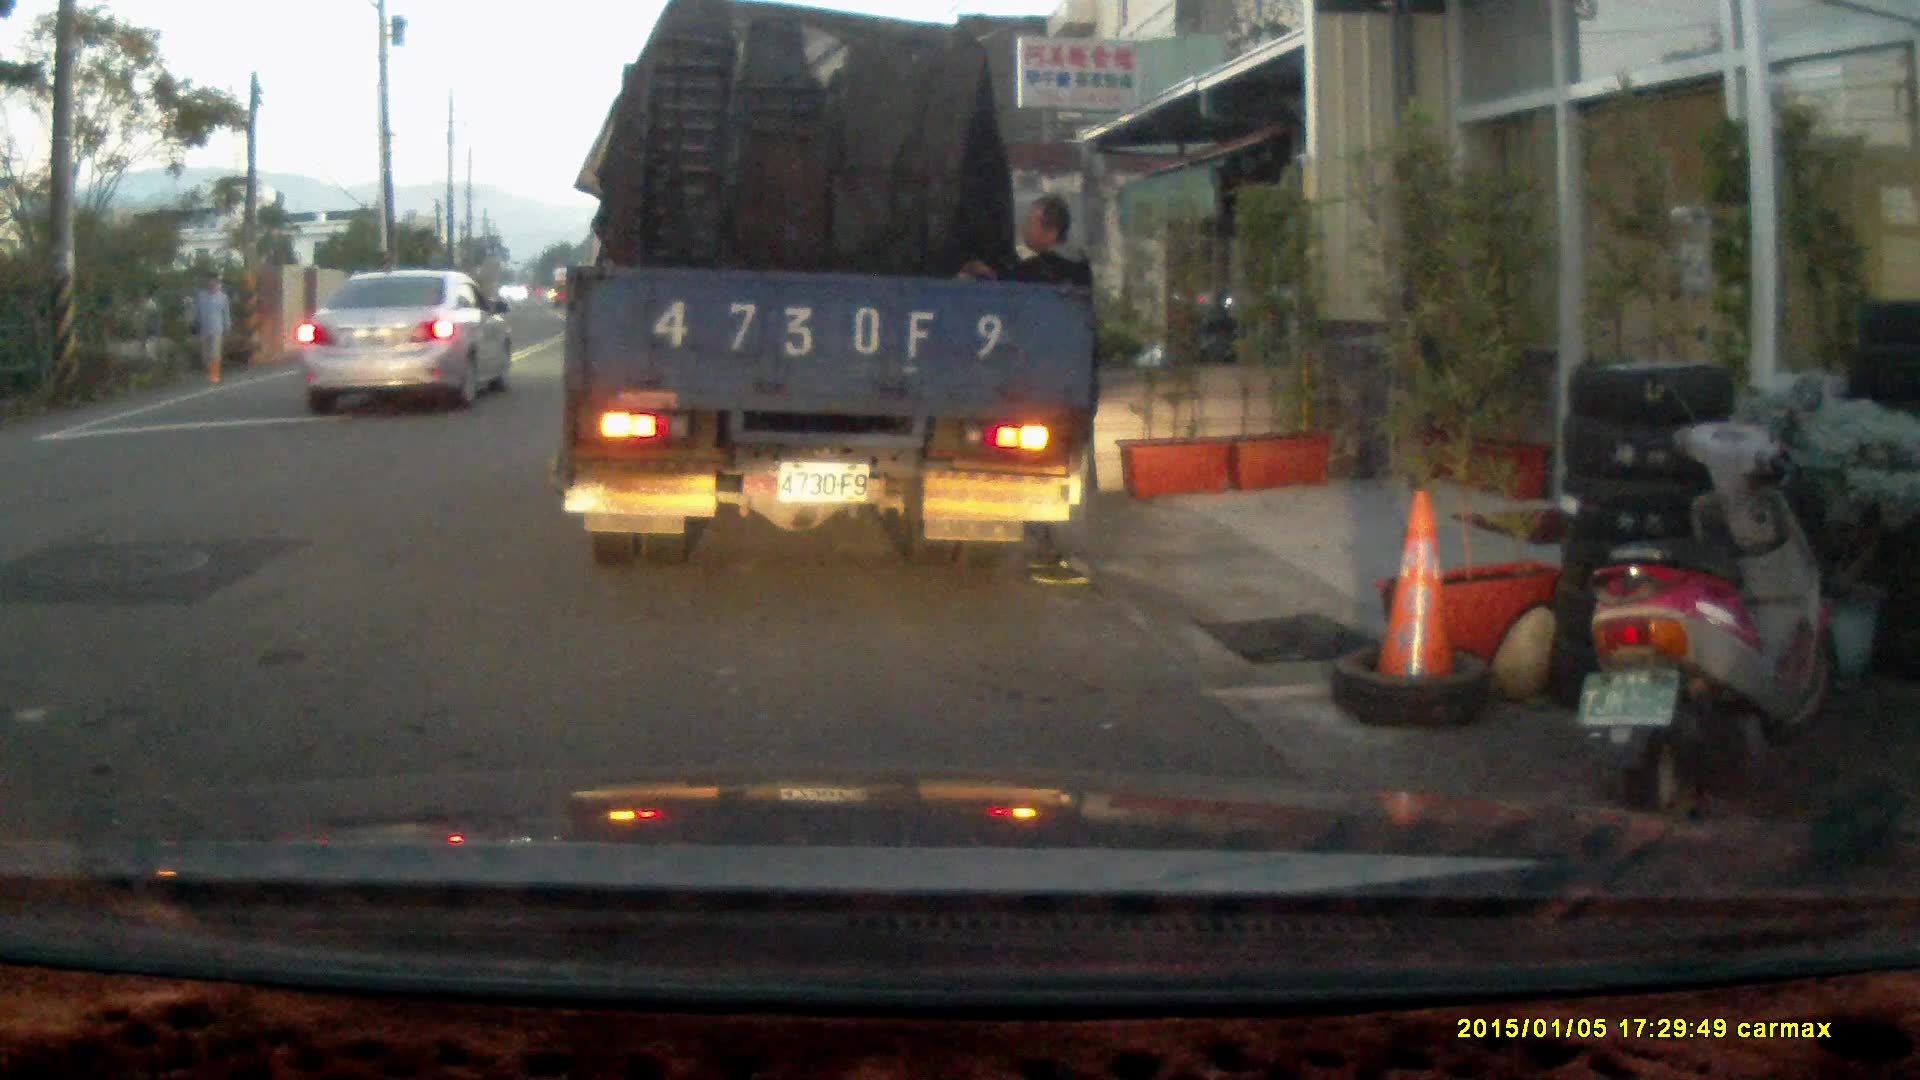pedestrian: (957, 194, 1100, 588), (188, 272, 232, 387)
vehicle: (565, 23, 1097, 572), (299, 268, 520, 415)
